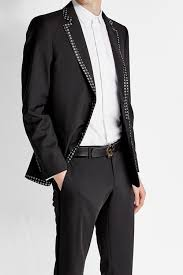F_belt: (58, 133, 139, 165)
F_dress pants: (52, 155, 139, 275)
